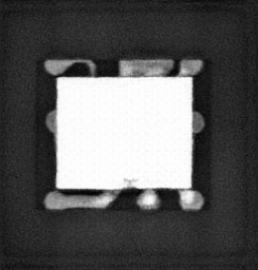DIE_INK: (122, 176, 138, 183)
